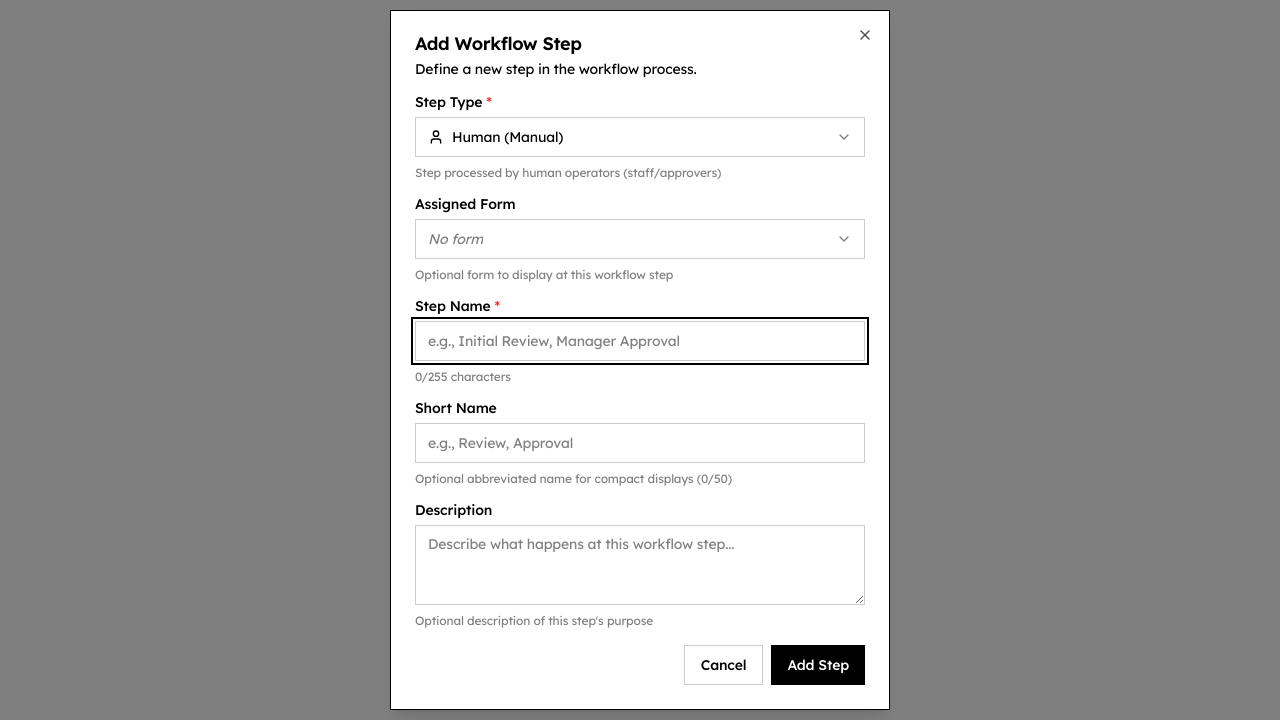
Test case: CreateRoleDialog › Form Validation › validates required name field on submit
The image size is (1280, 720).
Click the button "Add Step" at (818, 665), box x1=771 y1=645 x2=865 y2=685
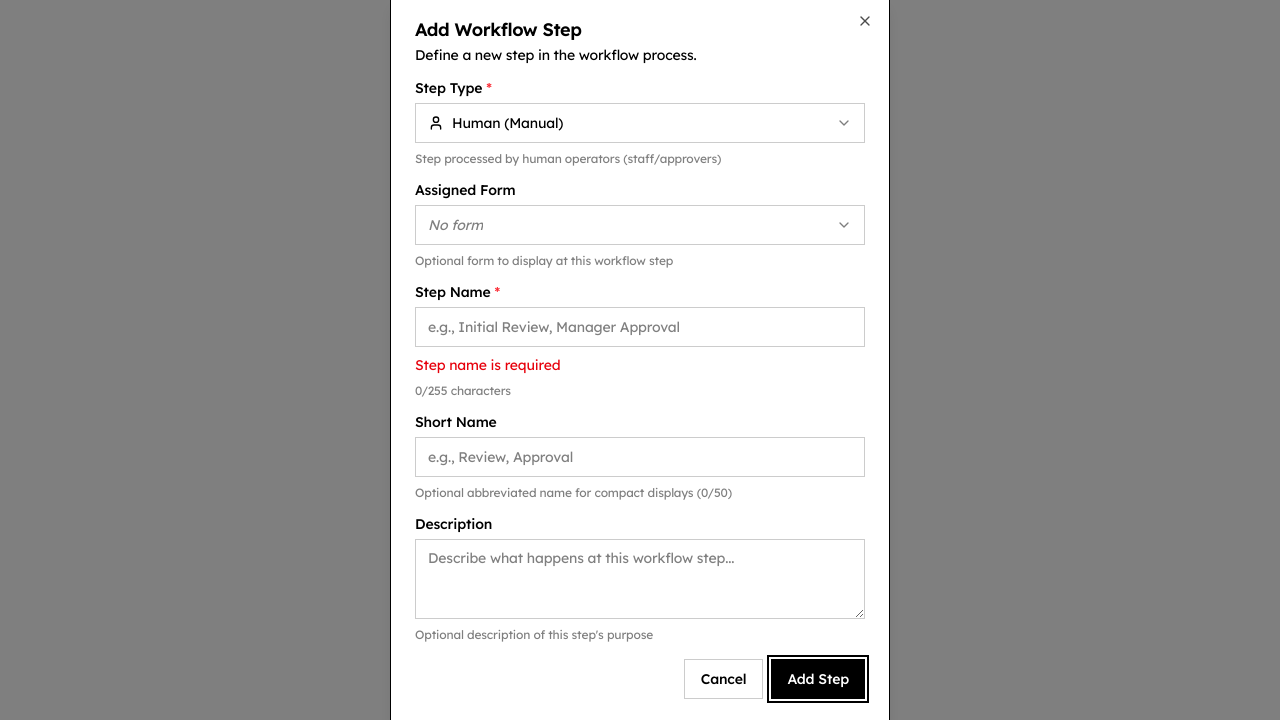
Expected: the text "Step name is required" is shown, x1=415 y1=356 x2=560 y2=374
